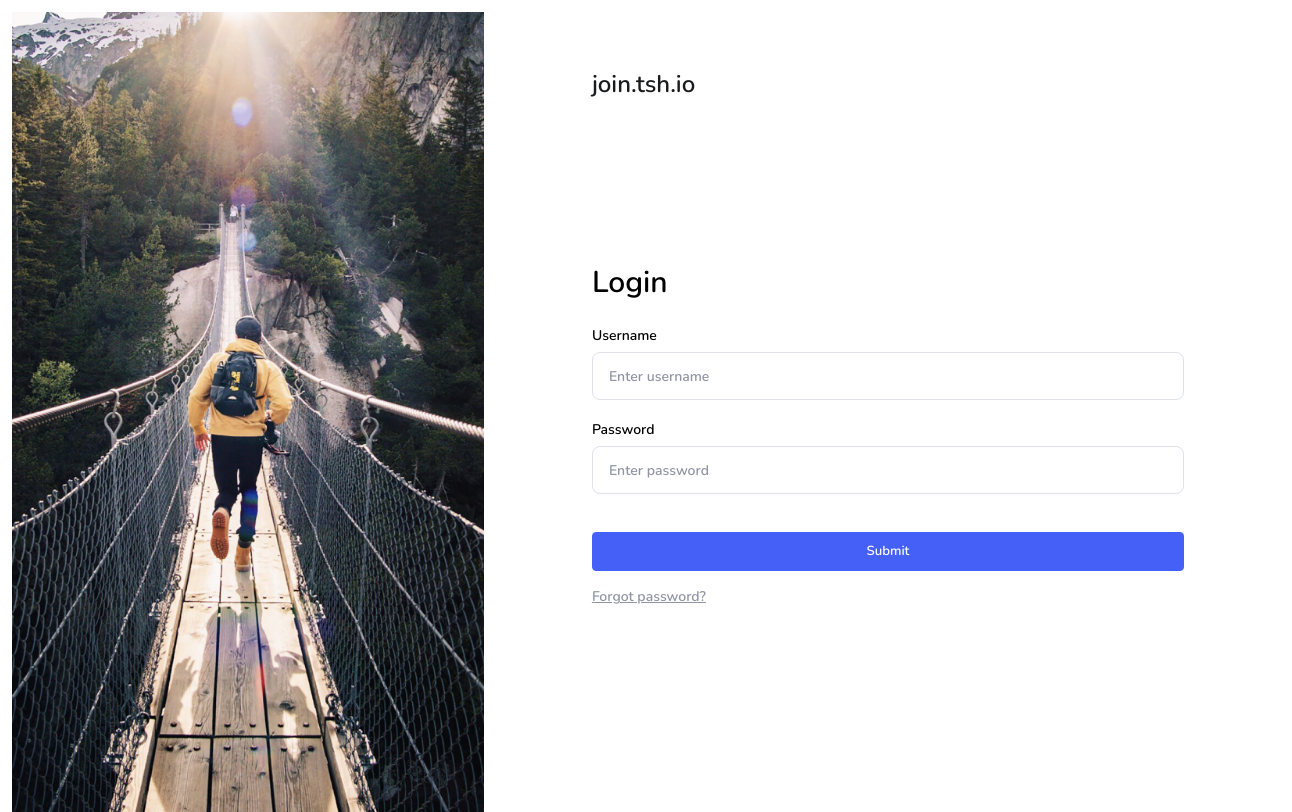
Scenario: Form › Errors disappear on changing input
Type "abc" into the field named "username" at (888, 376), box [592,352,1184,400]
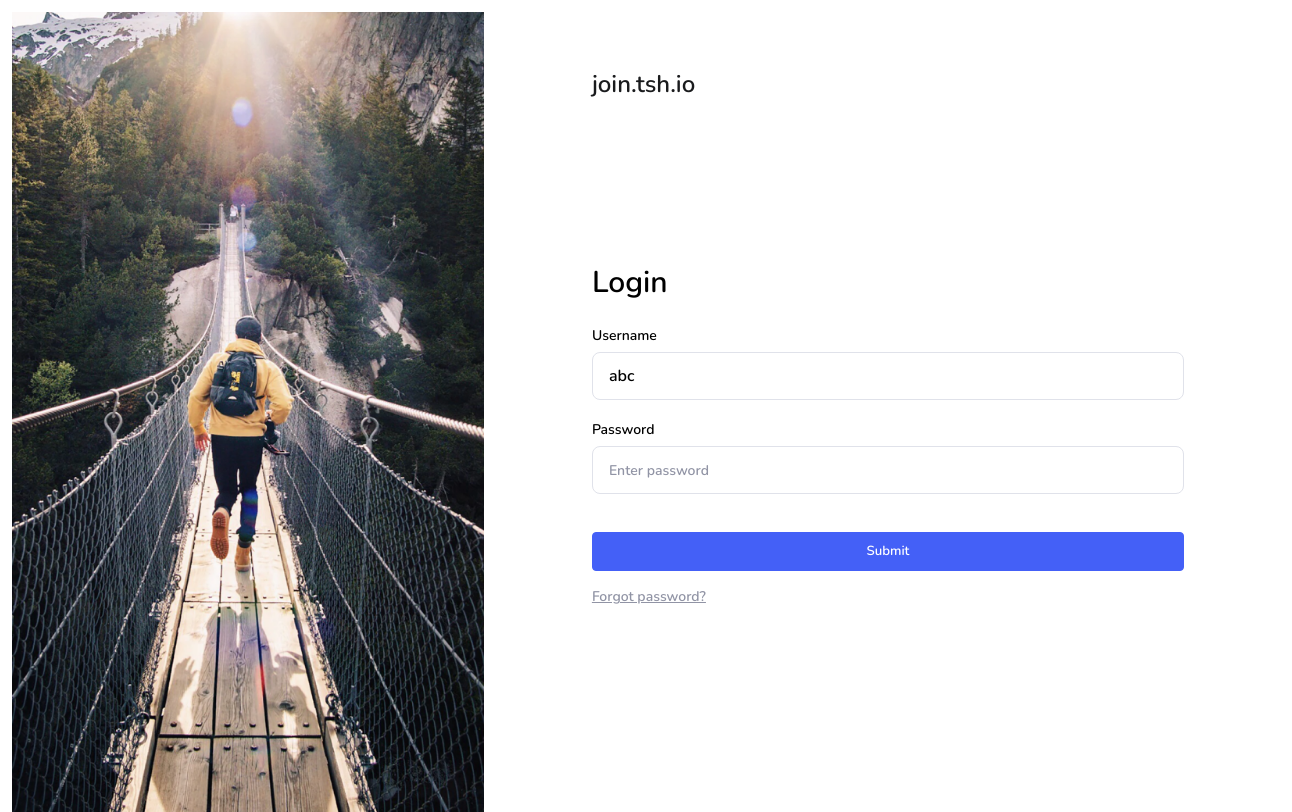
Type "short" into the password field named "password" at (888, 470), box [592,446,1184,494]
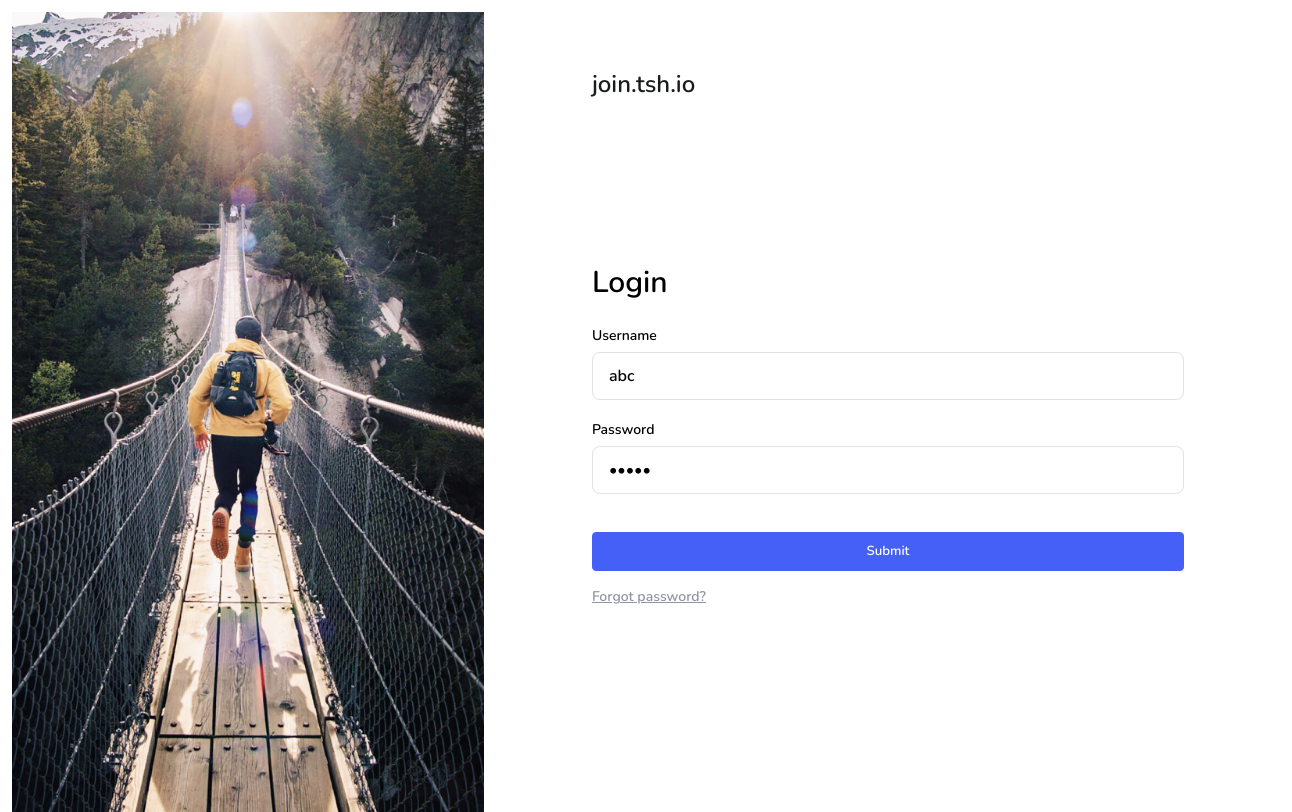
Click the submit button at (888, 552), box [592,532,1184,571]
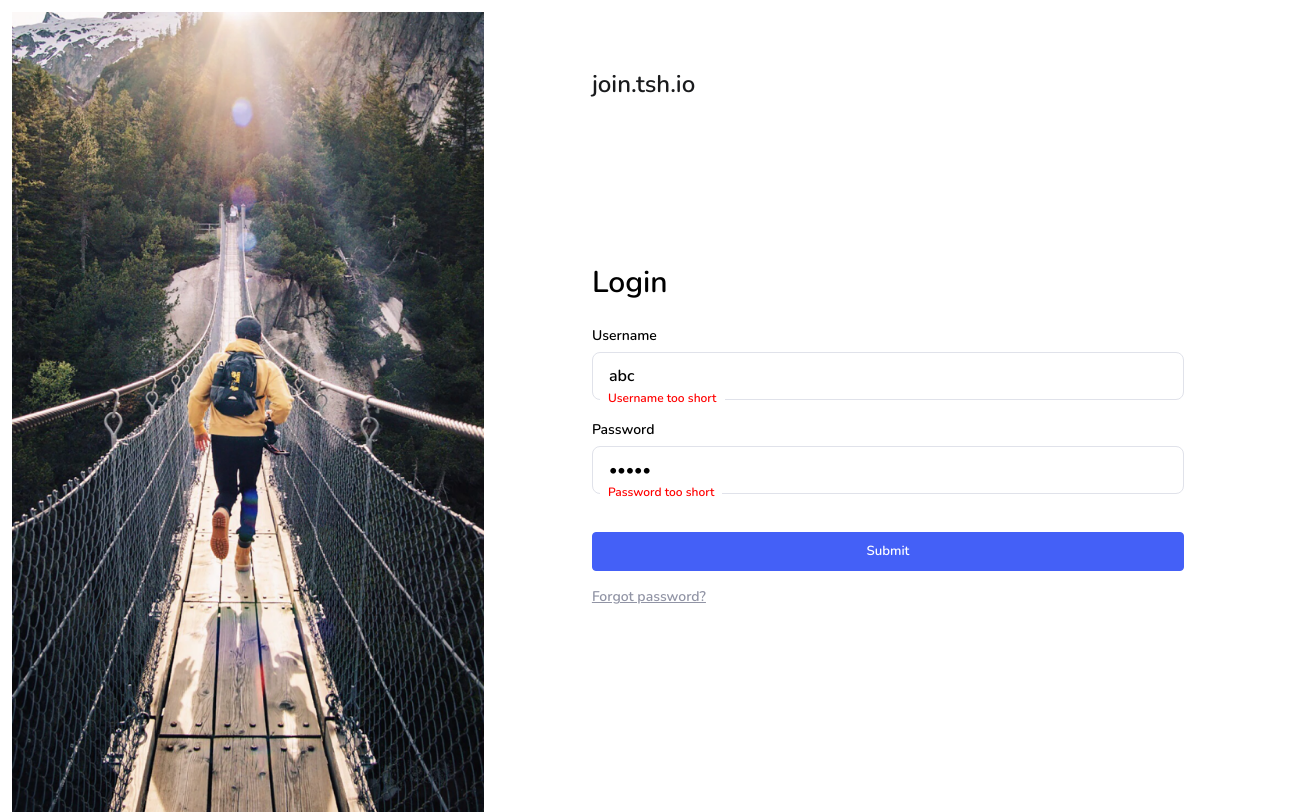
Expected: the number of elements with class "error" is 2, [600,392,724,406]; [600,486,722,500]
Replace the text in the field named "username" with "propername" at (888, 376), box [592,352,1184,400]
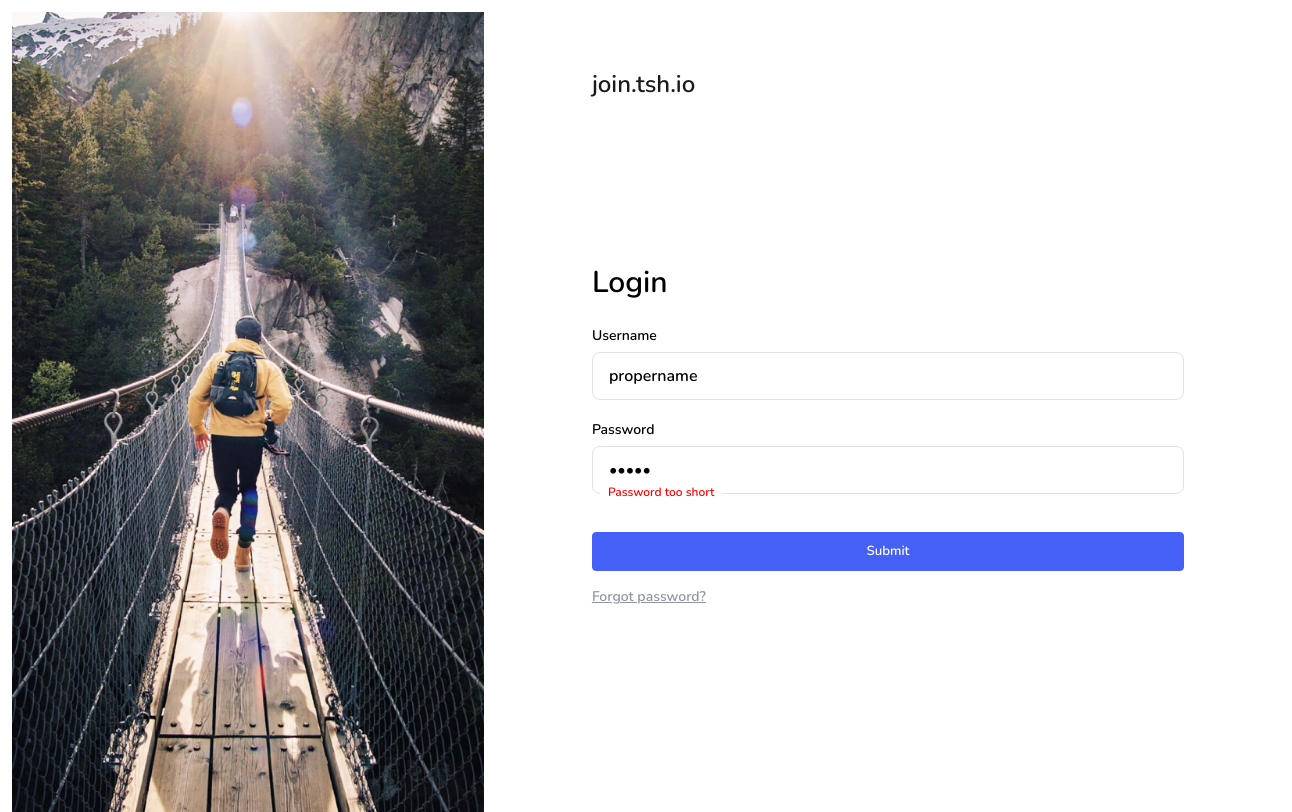
Expected: the number of elements with class "error" is 1, [600,486,722,500]
Type "short1" into the password field named "password" at (888, 470), box [592,446,1184,494]
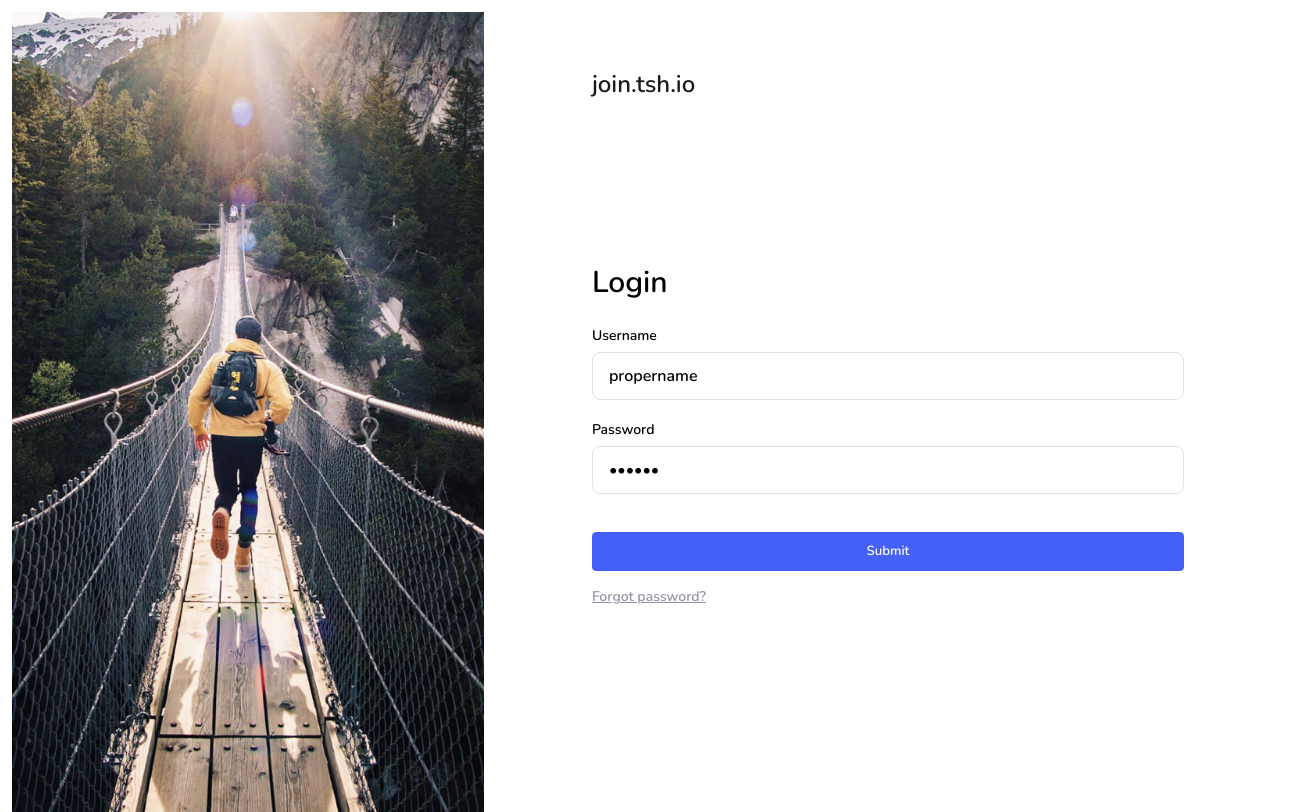
Expected: no elements with class "error" are shown
